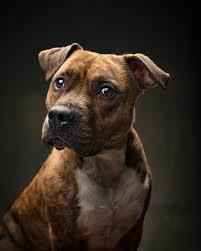Dog: (32, 43, 171, 157)
